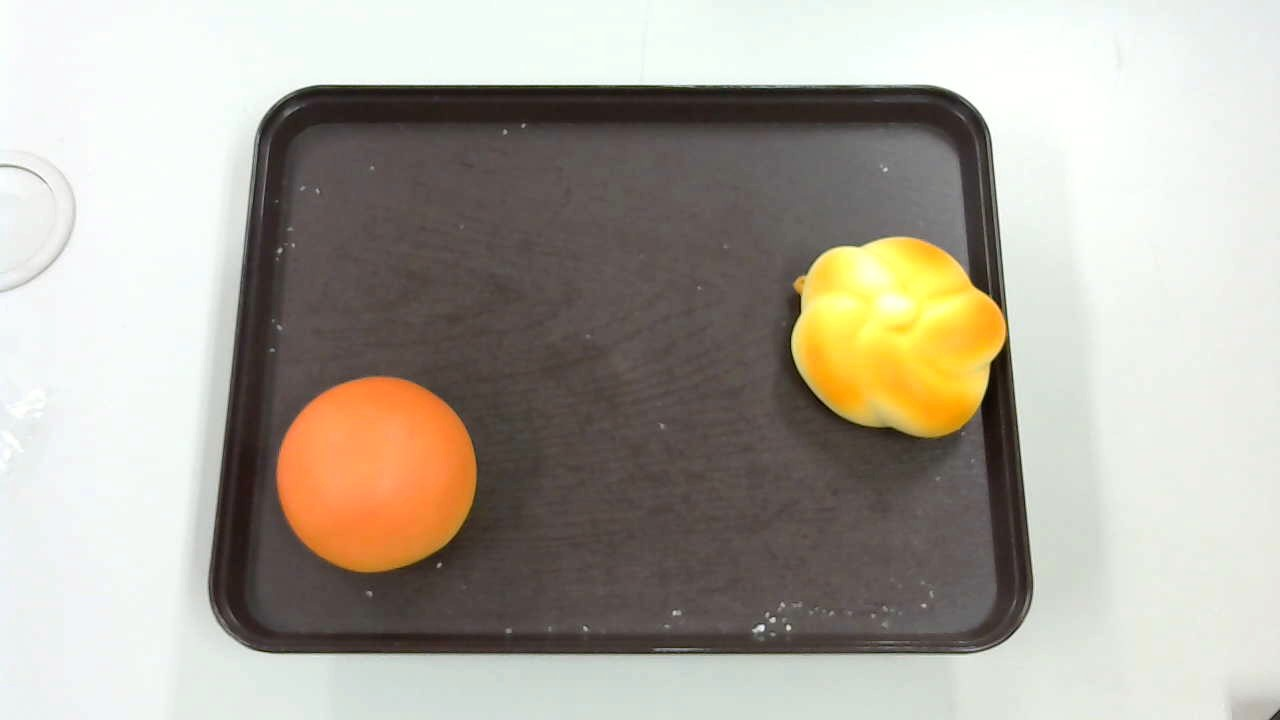bun: (275, 376, 477, 573)
twist bread: (789, 235, 1007, 436)
